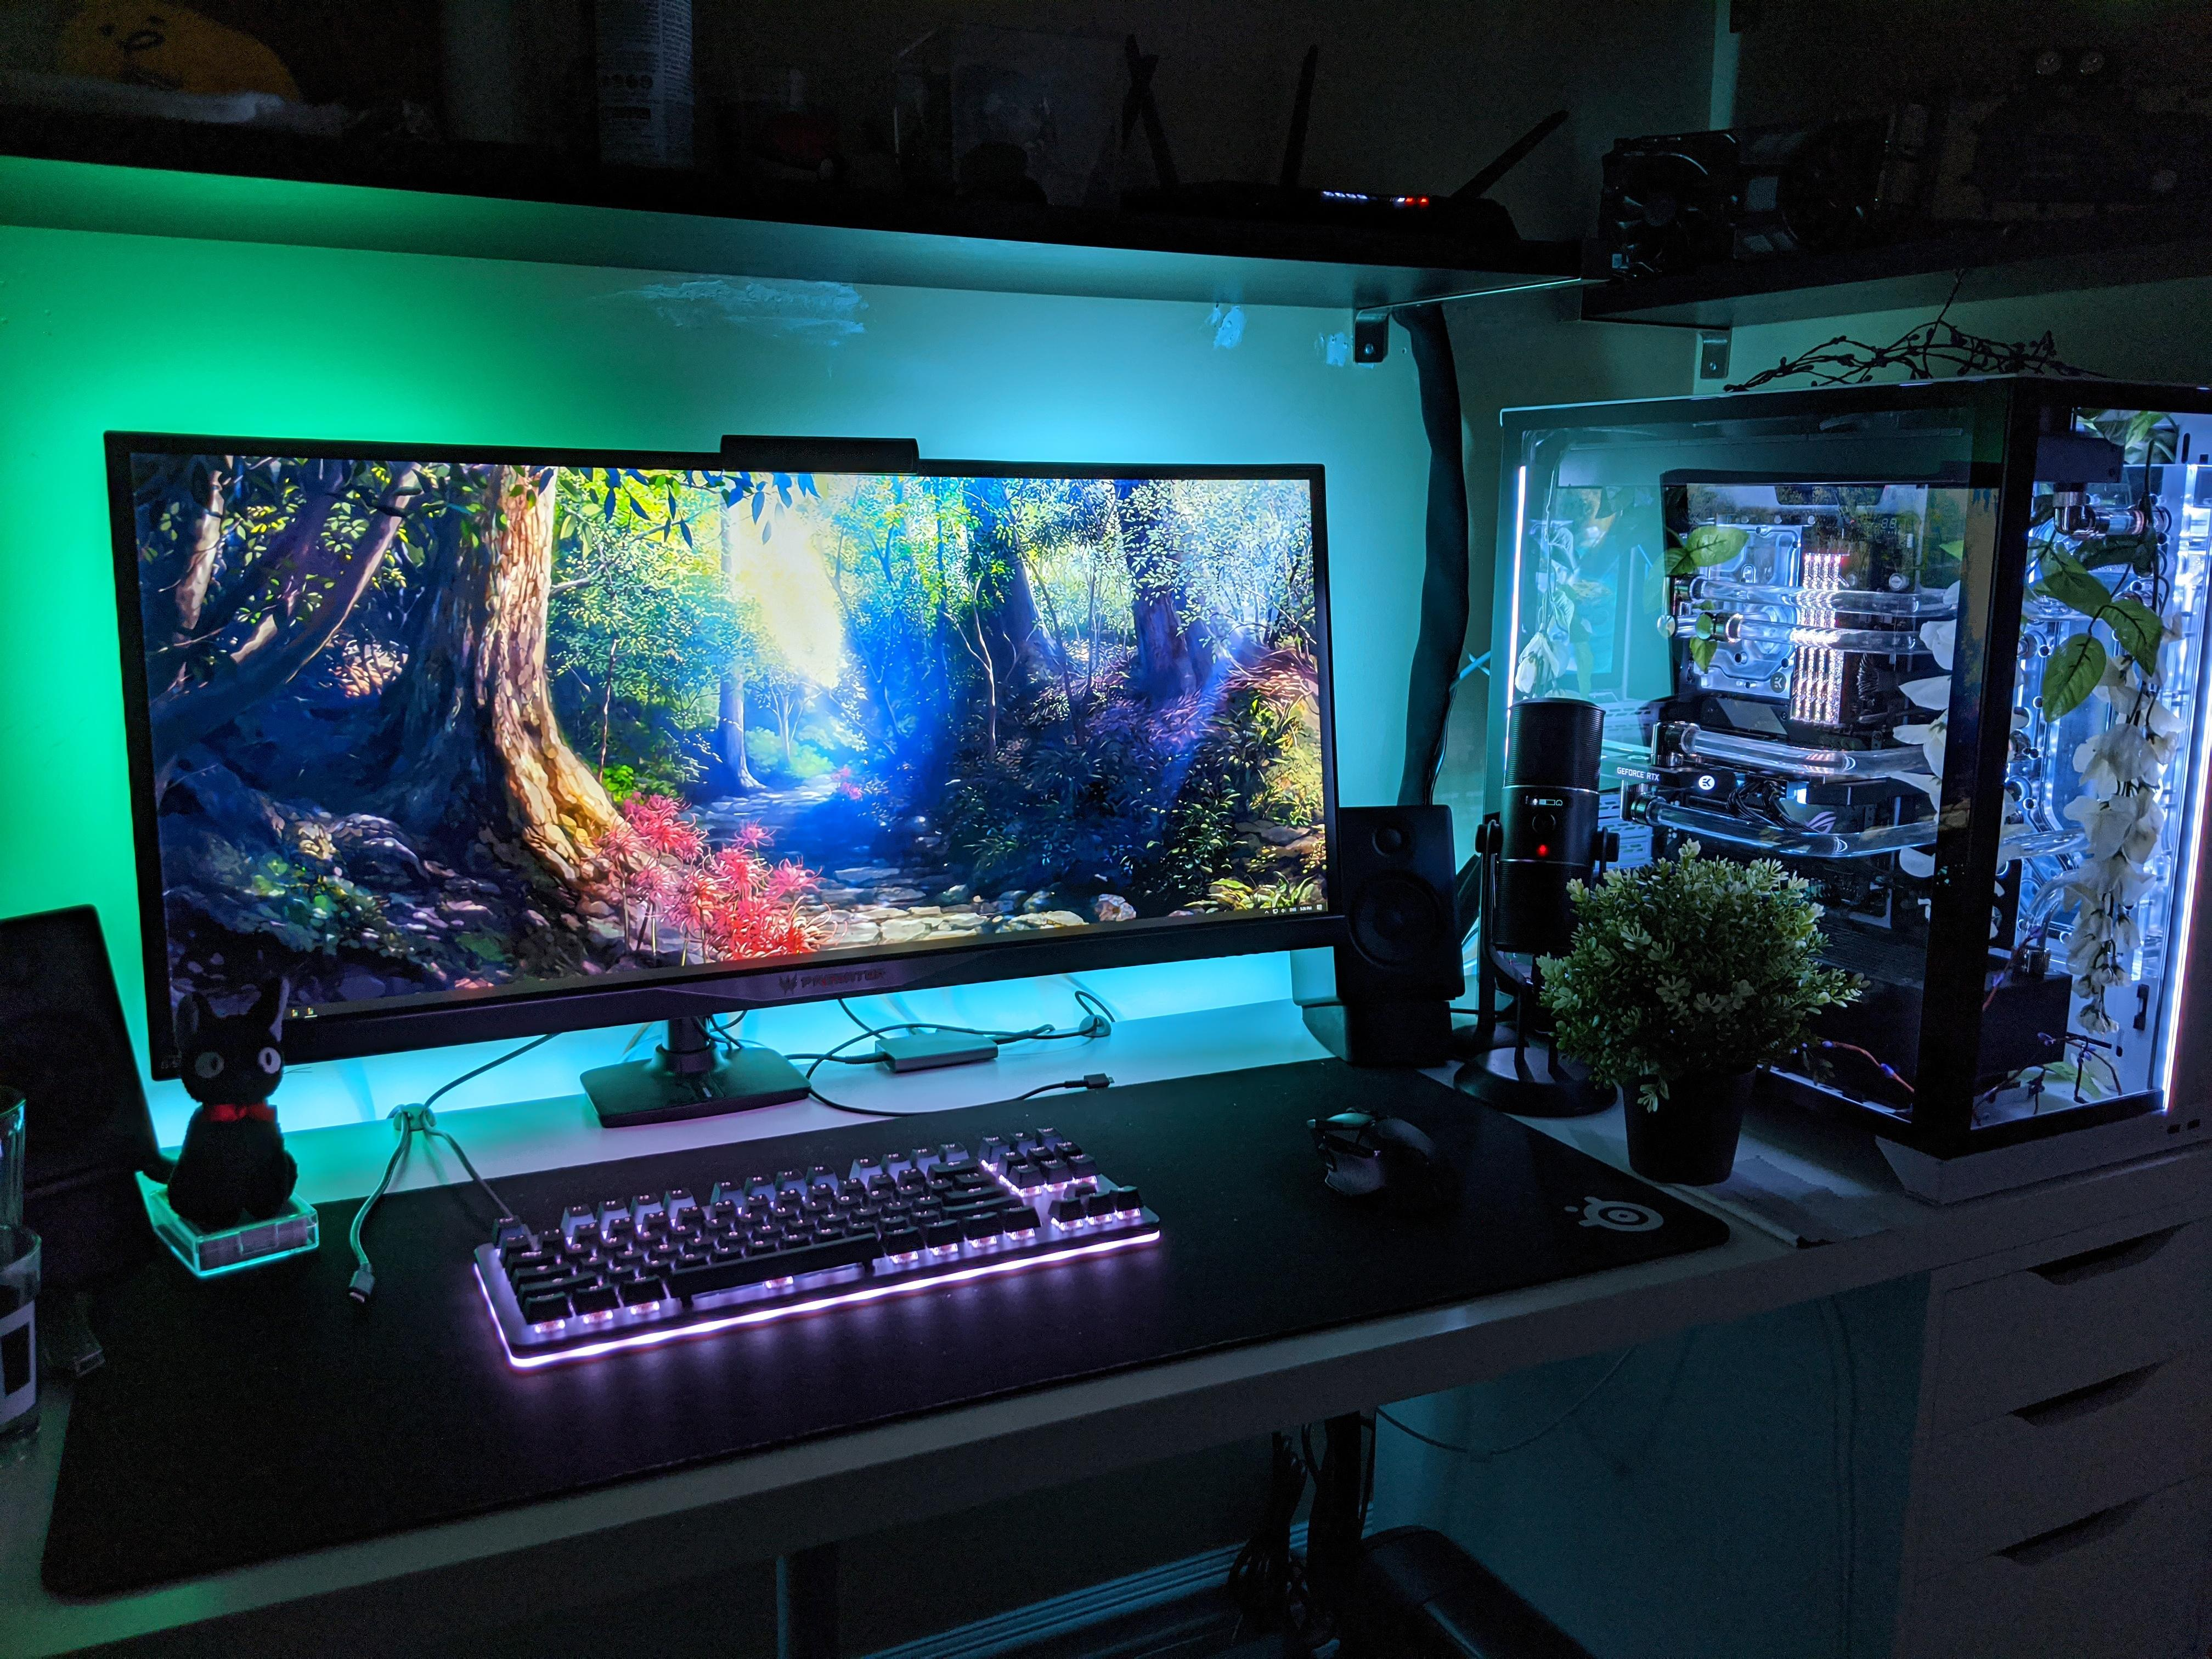Decoration (Miniature): (155, 992, 314, 1222)
Decoration (Plant): (1569, 854, 1785, 1168)
Desk (Generic): (47, 885, 1987, 1624)
Desktop (Windows): (1470, 394, 2043, 1171)
External Microphone (Generic): (1465, 697, 1625, 1096)
External Speakers (Subwoofers): (0, 962, 164, 1251), (1315, 796, 1460, 1054)
Keyboard (Gaming): (444, 1157, 1200, 1330)
Monitor (Landscape): (117, 436, 1360, 1011)
Mouse (Gaming): (1292, 1084, 1470, 1241)
Mousepad (Gaming): (0, 1093, 1742, 1358)
Storage Drawer: (1898, 1206, 2212, 1622)
